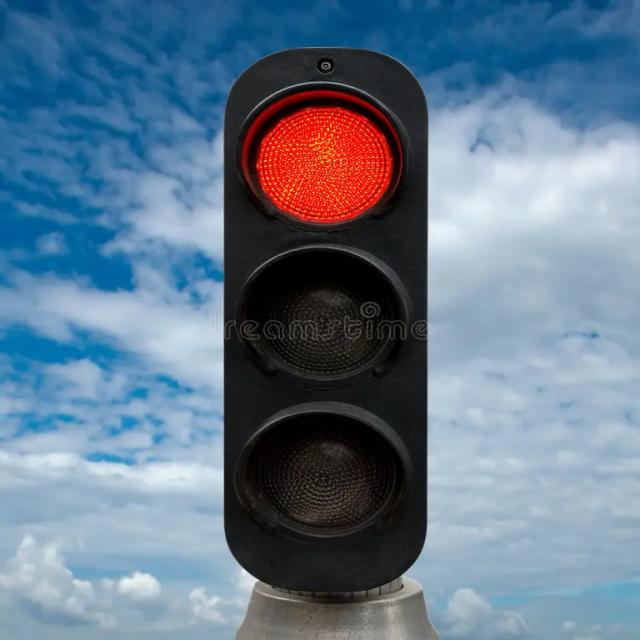red: (243, 82, 408, 238)
